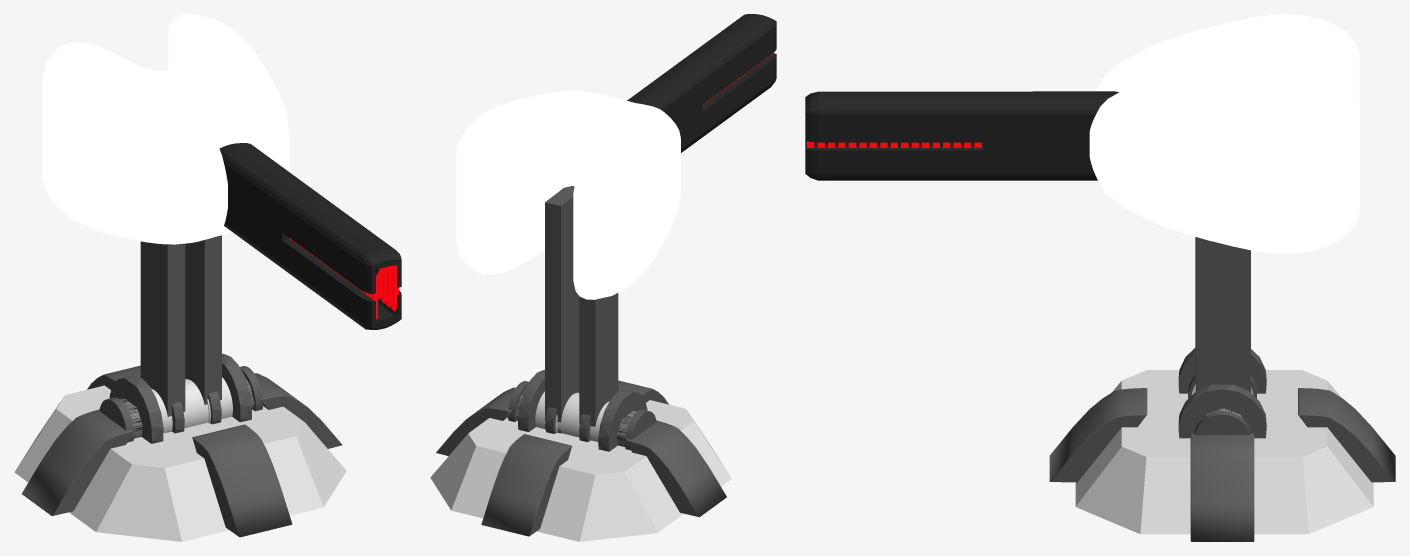
The model's file is Torreta.glb.
3 views of the same model, side by side, from view 1: azimuth 30°, elevation 25°; view 2: azimuth 150°, elevation 25°; view 3: azimuth 270°, elevation 25° (orthographic). The views are drawn at different scales.
Parts seen in each view (by area): view 1: Cabeza, Base.001, Cube.016, BezierCurve.002, BezierCurve.003, Cube.015, Cube.017, Cylinder.001, Anillos, Cylinder.002, Cube.022, Cylinder.004; view 2: Cabeza, Base.001, Cube.016, Cube.017, BezierCurve.002, BezierCurve.003, Cube.015, Cylinder.001, Anillos, Cylinder.002, Cylinder.004; view 3: Cabeza, Base.001, Cube.016, BezierCurve.003, Cube.017, BezierCurve.002, Cylinder.002, Cylinder.003, Cylinder.001, Cube.022.
Part boxes in pixels (x1,y1,x2,y2): Cabeza: [42, 14, 289, 244]; Base.001: [14, 385, 346, 541]; Cube.016: [219, 143, 401, 329]; BezierCurve.002: [21, 373, 342, 515]; BezierCurve.003: [87, 365, 292, 537]; Cube.015: [140, 241, 185, 432]; Cube.017: [185, 235, 221, 404]; Cylinder.001: [109, 375, 163, 443]; Anillos: [151, 377, 232, 433]; Cylinder.002: [222, 353, 252, 422]; Cube.022: [378, 265, 398, 311]; Cylinder.004: [99, 397, 134, 442]; Cabeza: [456, 90, 680, 299]; Base.001: [430, 400, 731, 541]; Cube.016: [627, 14, 776, 152]; Cube.017: [545, 186, 579, 433]; BezierCurve.002: [436, 387, 726, 517]; BezierCurve.003: [481, 380, 668, 536]; Cube.015: [579, 293, 618, 440]; Cylinder.001: [598, 389, 647, 451]; Anillos: [535, 391, 609, 441]; Cylinder.002: [518, 370, 544, 431]; Cylinder.004: [625, 409, 656, 450]; Cabeza: [1089, 14, 1360, 253]; Base.001: [1075, 370, 1373, 534]; Cube.016: [805, 91, 1118, 180]; BezierCurve.003: [1049, 388, 1395, 482]; Cube.017: [1196, 237, 1250, 392]; BezierCurve.002: [1190, 433, 1254, 541]; Cylinder.002: [1178, 384, 1266, 438]; Cylinder.003: [1194, 411, 1250, 434]; Cylinder.001: [1178, 348, 1266, 393]; Cube.022: [807, 141, 981, 147].
Bounding box in the file's own units: 1.43 × 1.95 × 2.44.
5 materials, 1 textured.
